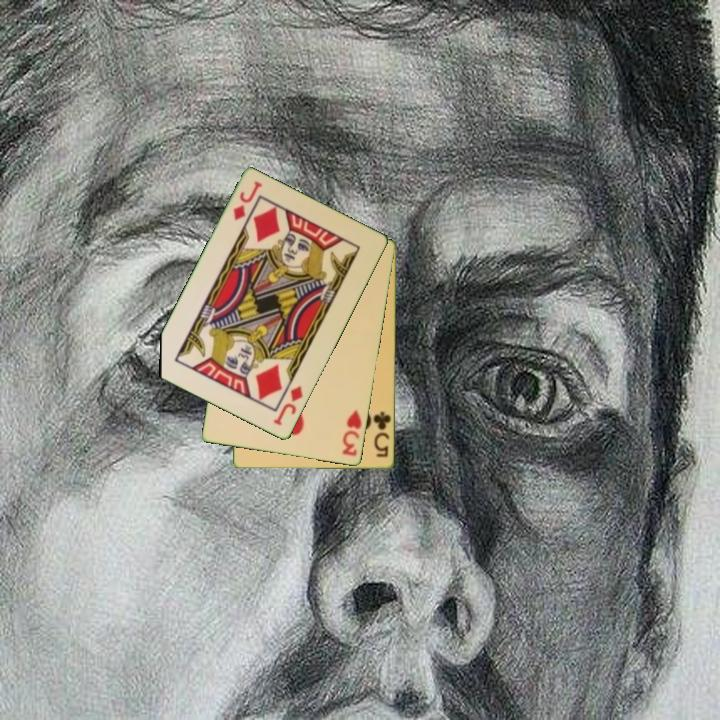3h: (339, 406, 365, 459)
5c: (370, 409, 394, 460)
Jd: (270, 382, 306, 429), (229, 178, 265, 224)
